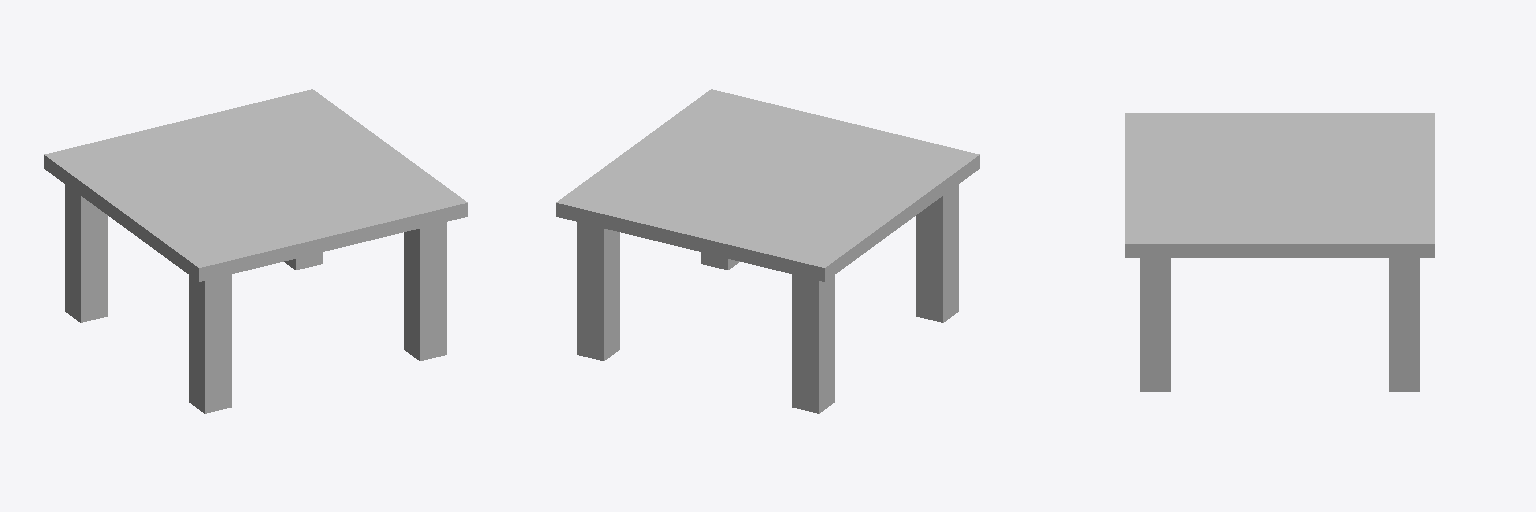
Rendered from table.obj.
The picture shows the model from 3 angles: view 1: azimuth 30°, elevation 25°; view 2: azimuth 150°, elevation 25°; view 3: azimuth 270°, elevation 25°; orthographic projection.
Visible parts, largest first — view 1: Cube; view 2: Cube; view 3: Cube.
Boxes of the visible parts, x1=… form: Cube: x1=44, y1=89, x2=467, y2=413; Cube: x1=556, y1=89, x2=979, y2=413; Cube: x1=1125, y1=113, x2=1434, y2=391.
Bounding box in the file's own units: 4 × 2.2 × 4.